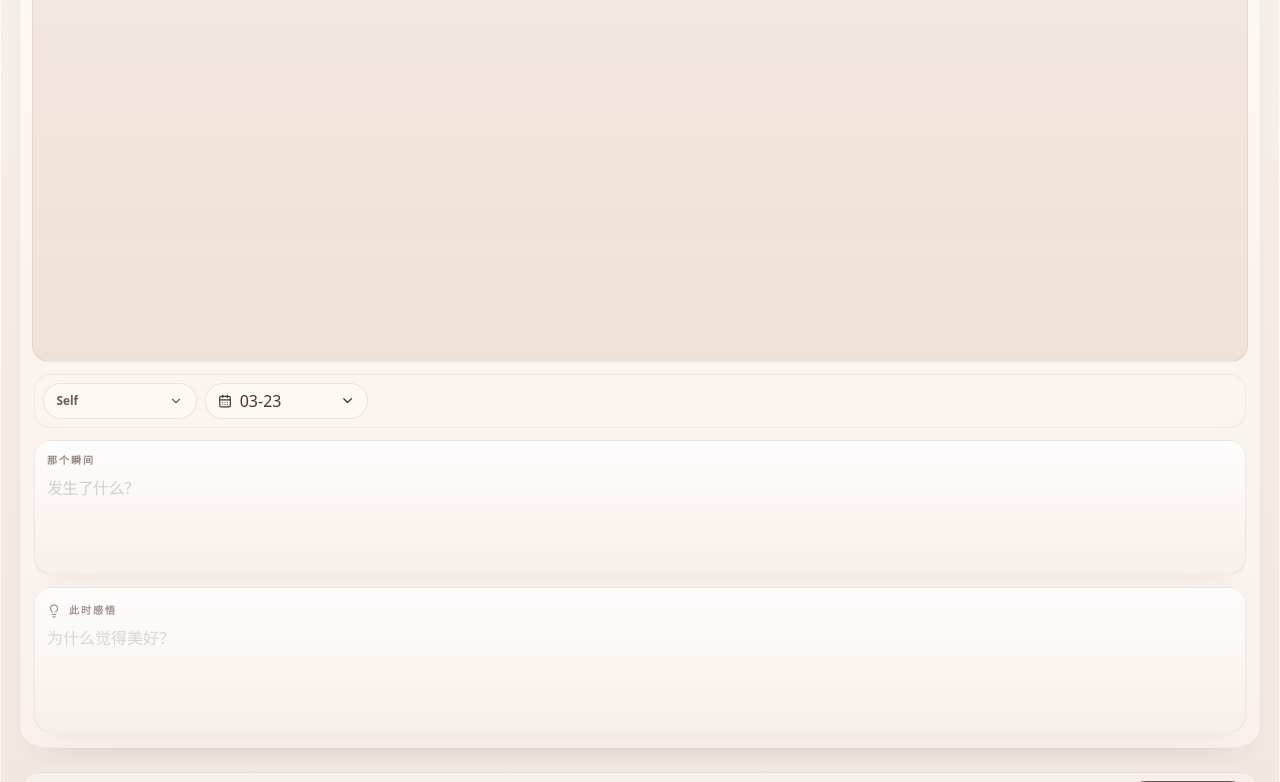
Test case: QuickEntry › opens the lighter person menu from the top toolbar
(page scrolled)
Click the button "Self": (120, 401) [43,383,197,419]
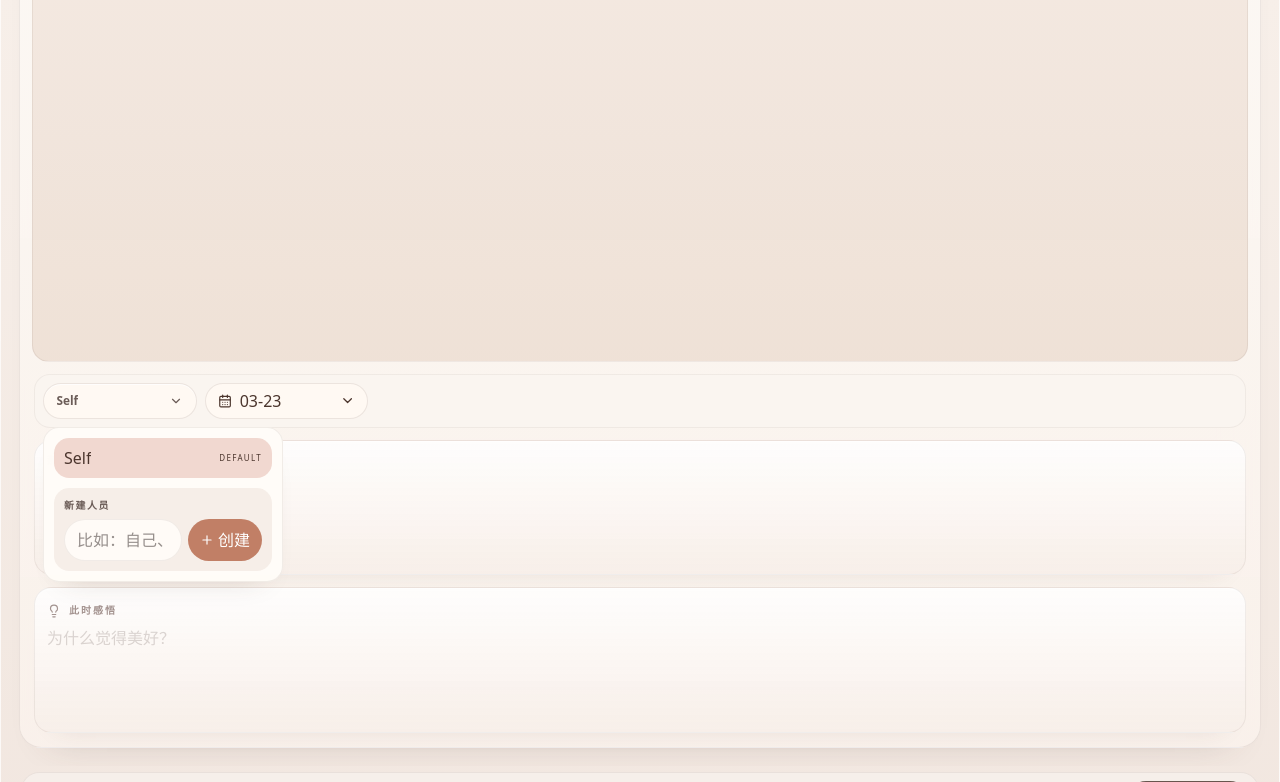
Expected: the element showing "Self Default 新建人员 创建" is shown, [43,427,283,582]
Expected: the button "创建" is shown, [188,519,262,561]
